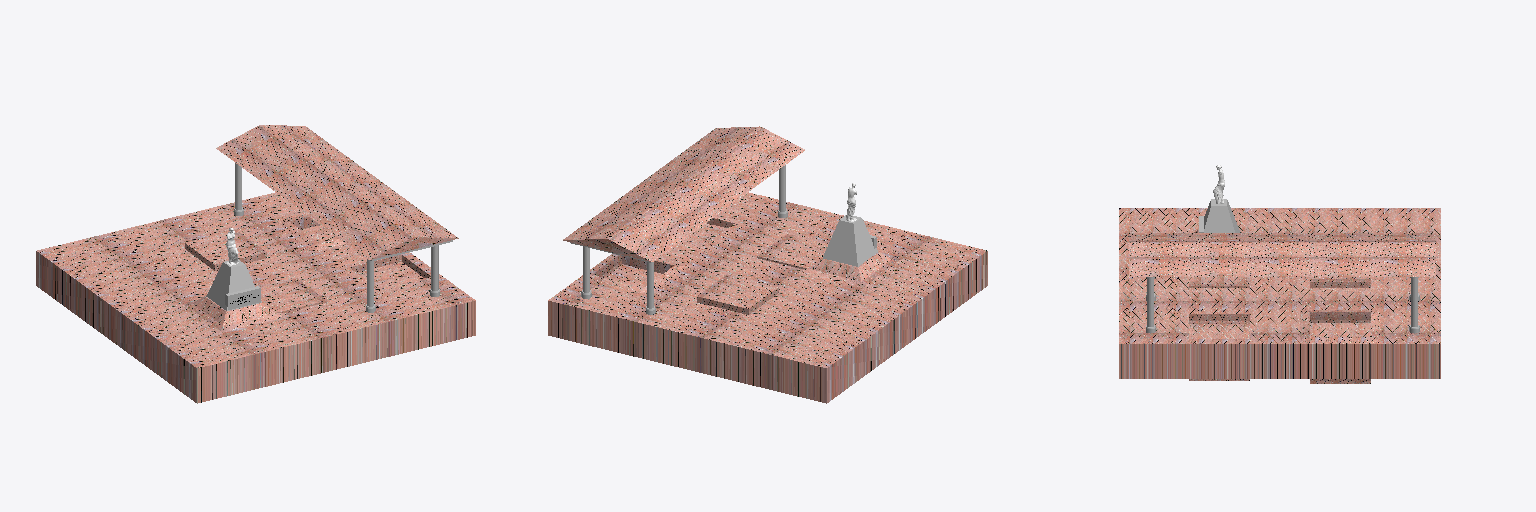
3 renders of one model, left to right at view 1: azimuth 30°, elevation 25°; view 2: azimuth 150°, elevation 25°; view 3: azimuth 270°, elevation 25°, orthographic.
Parts seen in each view (by area): view 1: Plane, Cube_Cube.001, Cube.001_Cube, Cylinder; view 2: Plane, Cube_Cube.001, Cube.001_Cube, Cylinder; view 3: Plane, Cube_Cube.001, Cube.001_Cube, Cylinder.
Boxes of the visible parts, <box> form: Plane: <box>36,192,475,403</box>; Cube_Cube.001: <box>216,125,458,259</box>; Cube.001_Cube: <box>206,259,261,310</box>; Cylinder: <box>234,163,452,312</box>; Plane: <box>548,192,987,403</box>; Cube_Cube.001: <box>563,126,804,261</box>; Cube.001_Cube: <box>823,215,877,266</box>; Cylinder: <box>570,165,787,314</box>; Plane: <box>1119,208,1440,383</box>; Cube_Cube.001: <box>1129,233,1435,276</box>; Cube.001_Cube: <box>1199,199,1239,232</box>; Cylinder: <box>1146,277,1419,333</box>.
Bounding box in the file's own units: 13.59 × 5.98 × 13.59.
5 materials, 1 textured.